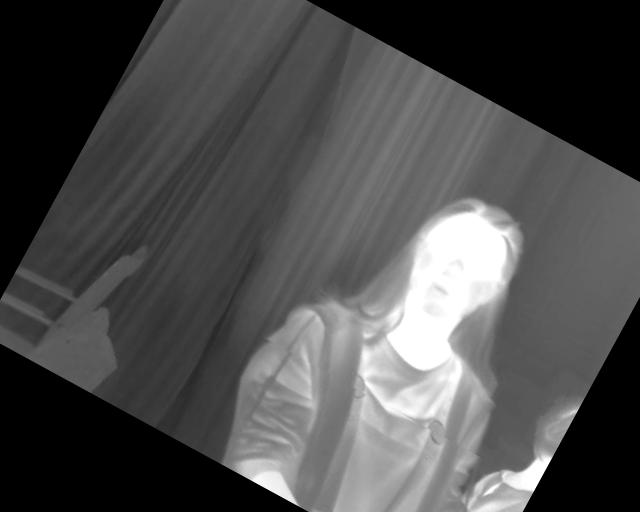face: (202, 149, 295, 249), (373, 201, 464, 299)
